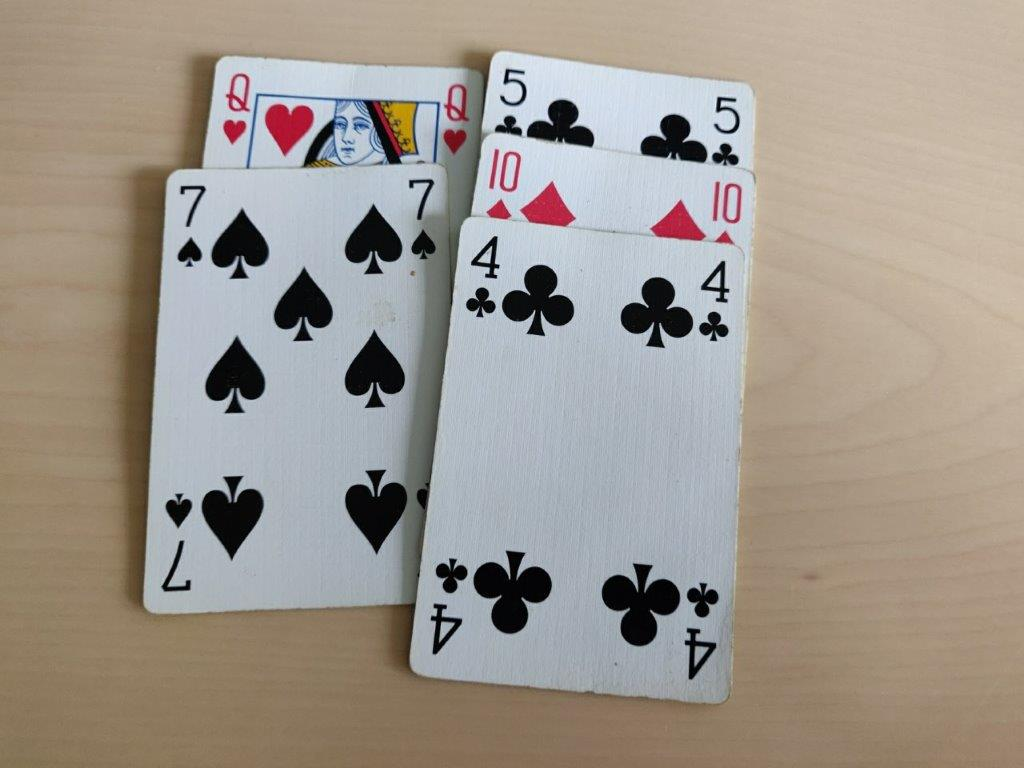10D: (482, 144, 521, 224), (702, 176, 744, 250)
4C: (458, 230, 506, 319), (687, 255, 735, 344)
5C: (492, 62, 529, 141), (708, 90, 745, 169)
7S: (168, 179, 211, 269), (400, 175, 443, 265)
QH: (219, 67, 255, 149), (436, 76, 472, 158)
